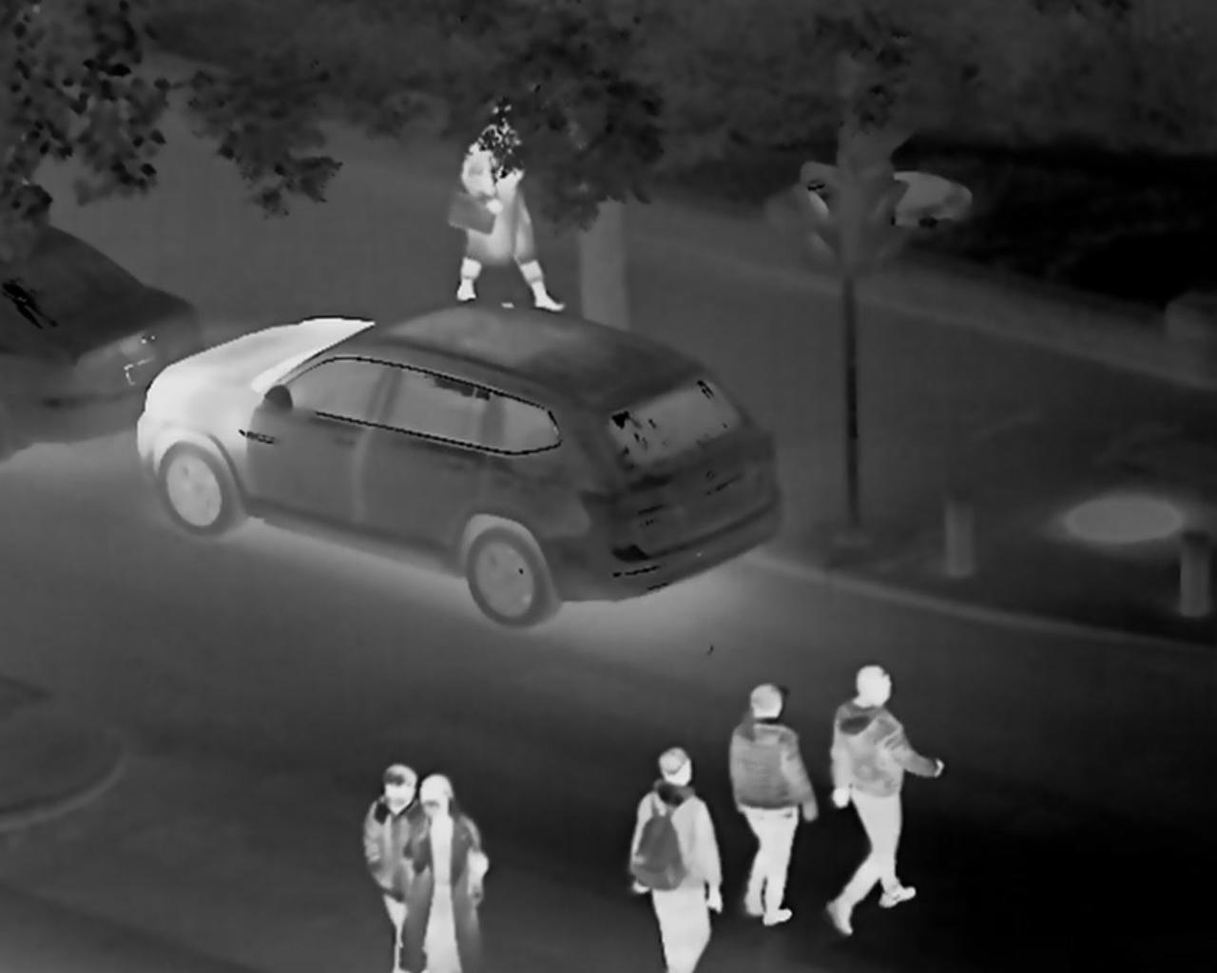person: (822, 631, 953, 963), (444, 79, 566, 330), (622, 739, 720, 973), (415, 762, 517, 973), (732, 670, 808, 944), (363, 757, 410, 904)
